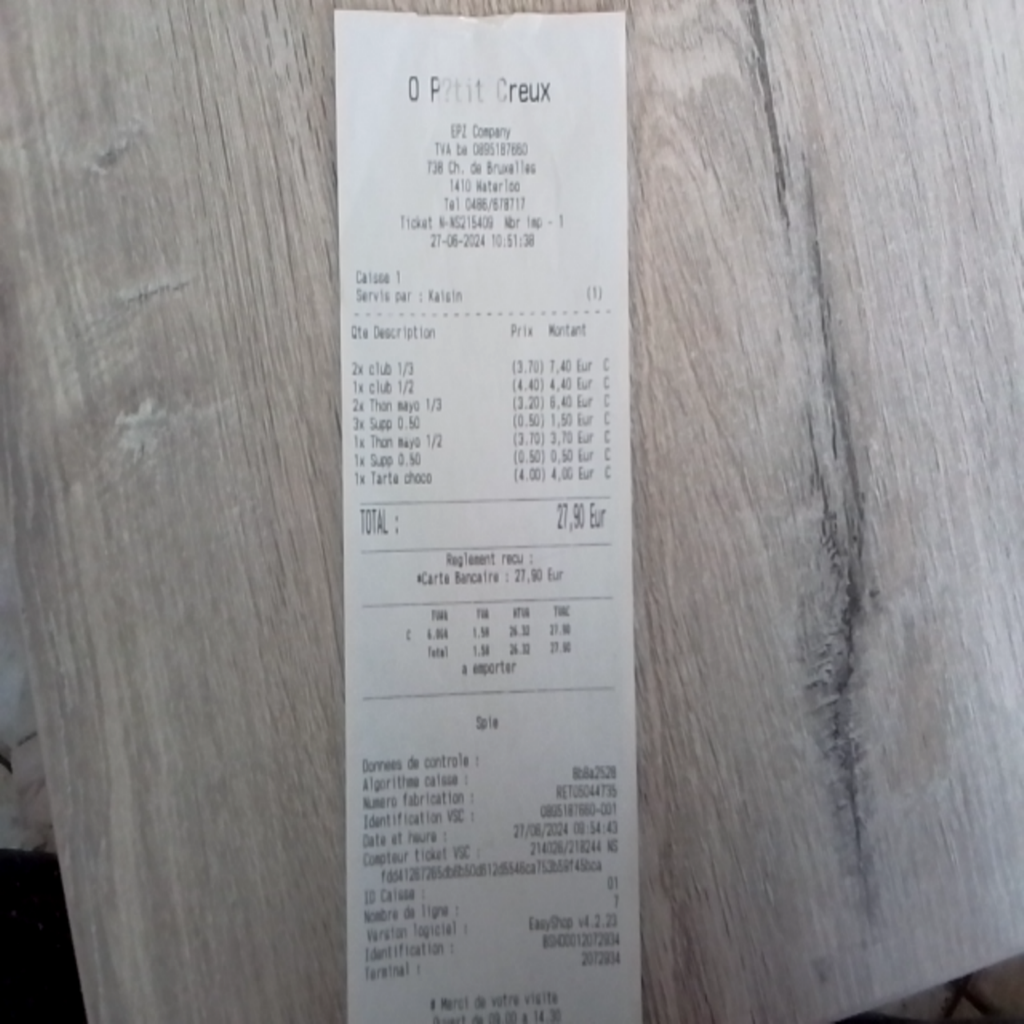recipt: (331, 8, 642, 1016)
